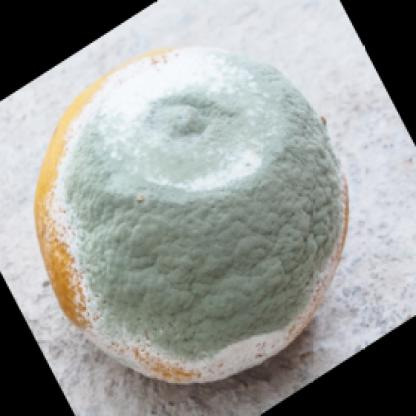rotten: (38, 48, 351, 388)
